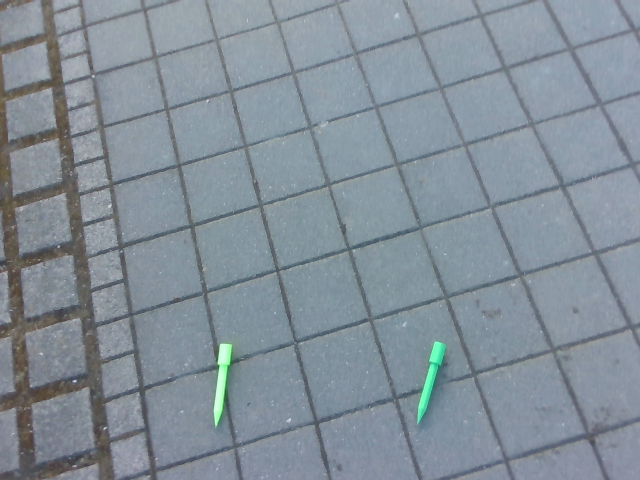Probe: (410, 333, 453, 433), (209, 333, 236, 430)
